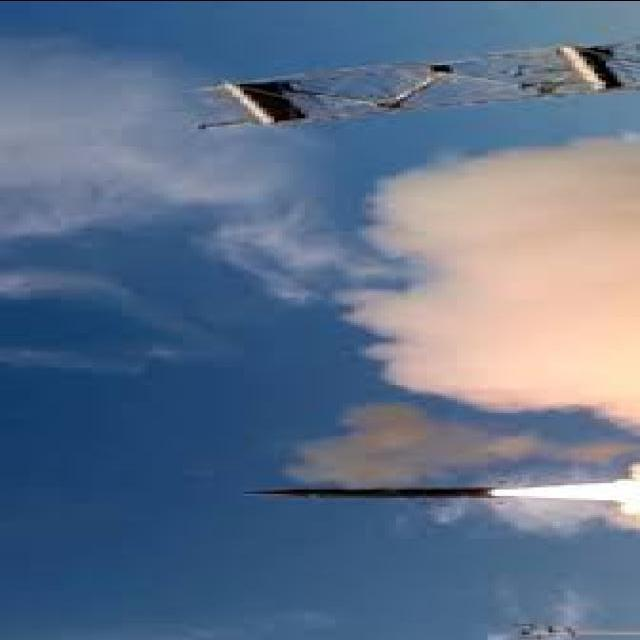missile: (232, 482, 510, 501)
